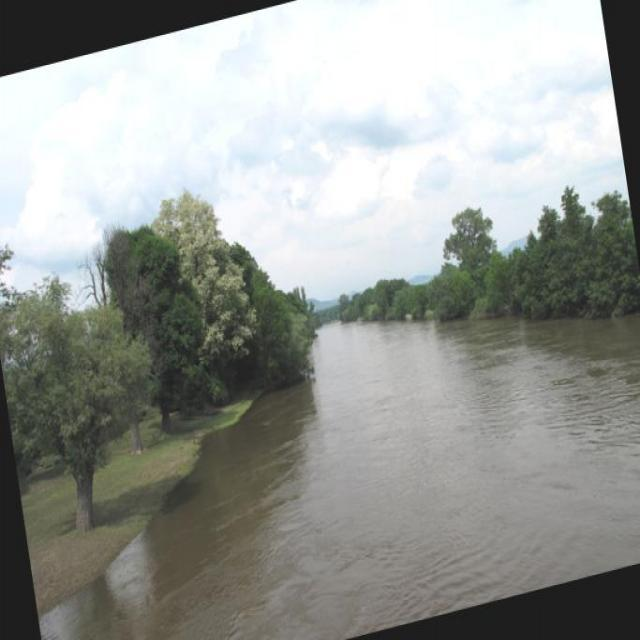flood: (7, 245, 639, 639)
